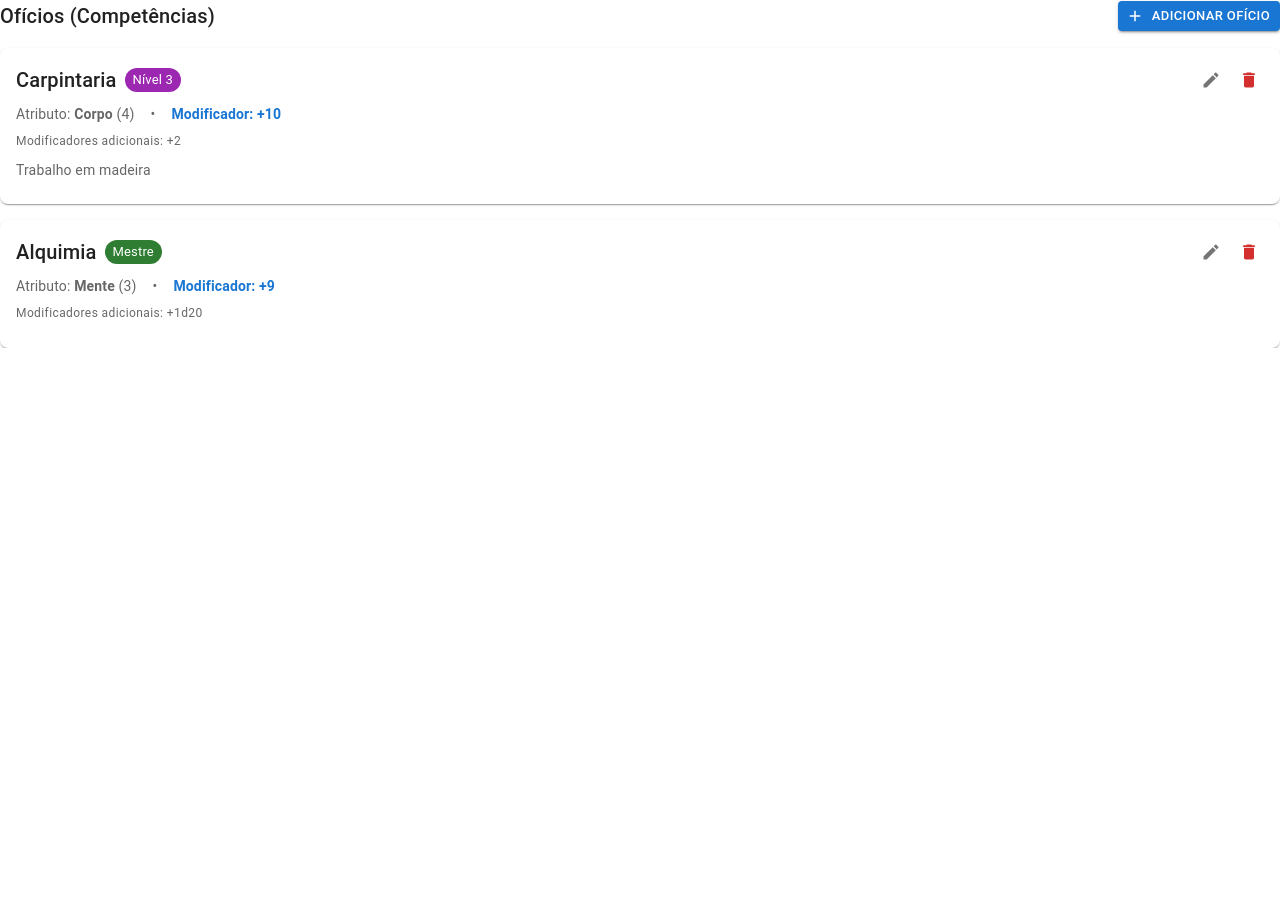
Scenario: CraftsDisplay › Remoção de Ofícios › deve abrir dialog de confirmação ao clicar em Remover
Click the button named "Remover": point(1249, 80) [1234,65,1264,95]
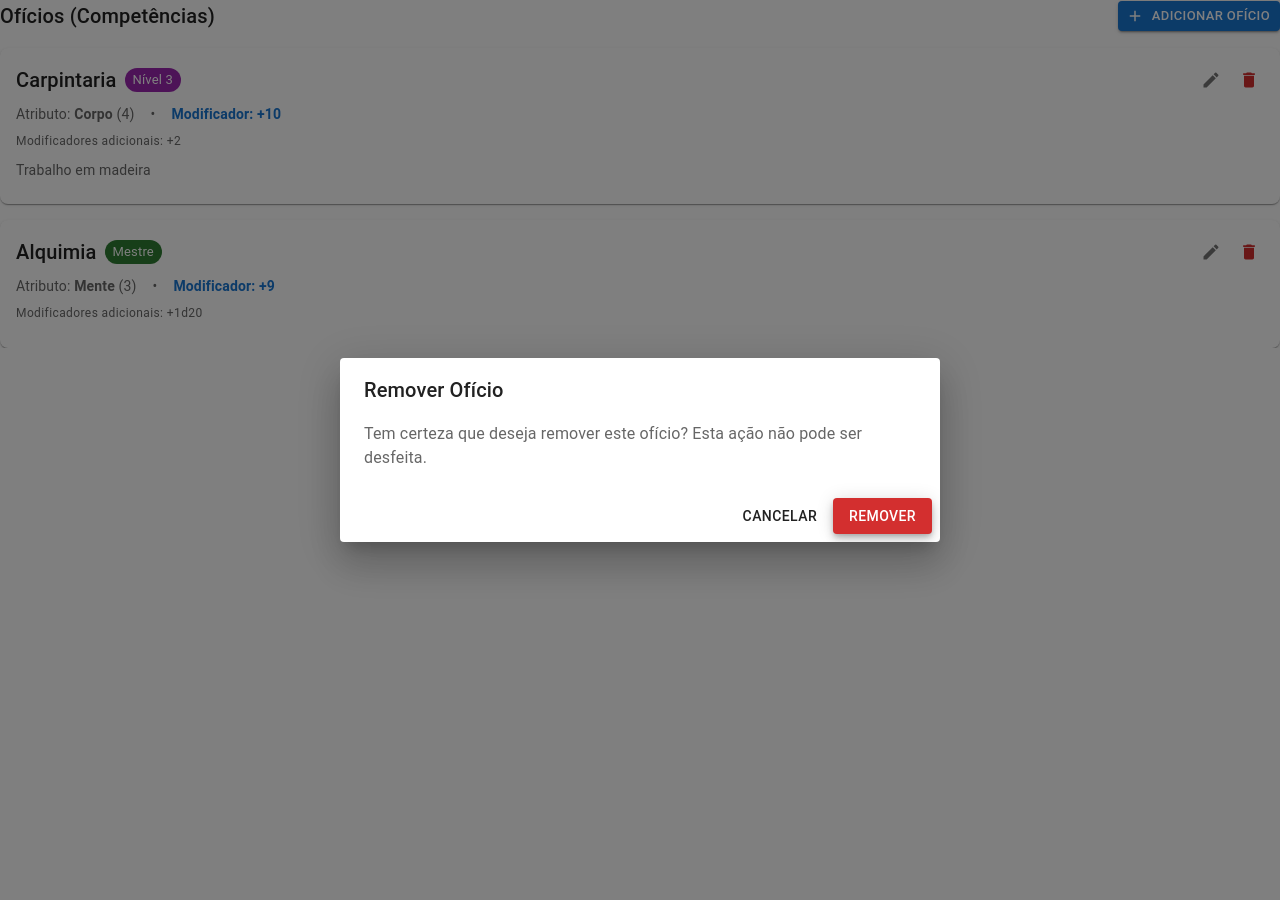
Result: the heading "Remover Ofício" is shown at [364,378,504,402]
